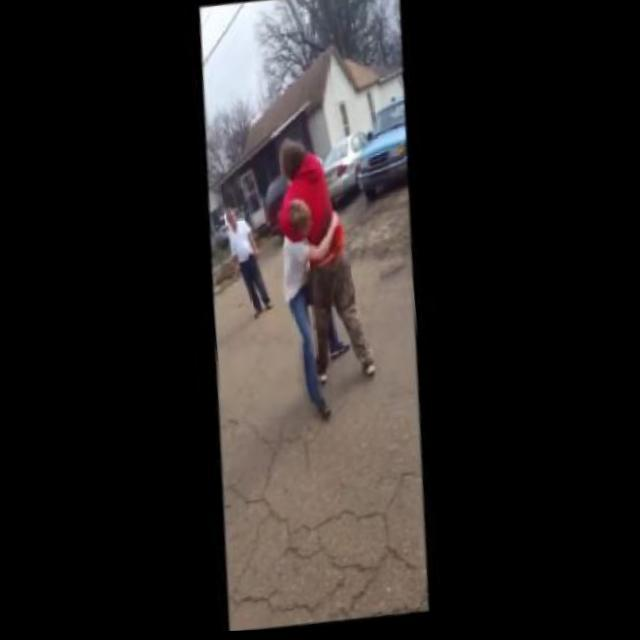fight: (254, 128, 392, 431)
